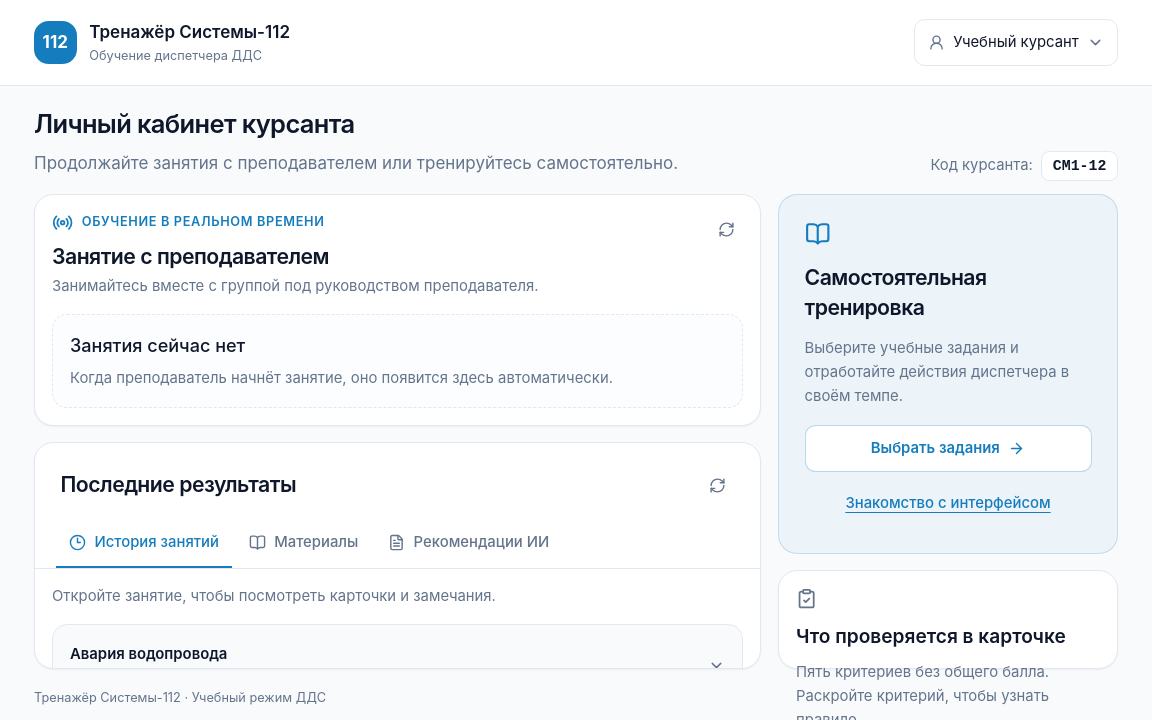
retains error counts even when detailed messages are missing
Click the heading "Авария водопровода" at (149, 654), box [70, 645, 227, 663]
(page scrolled)
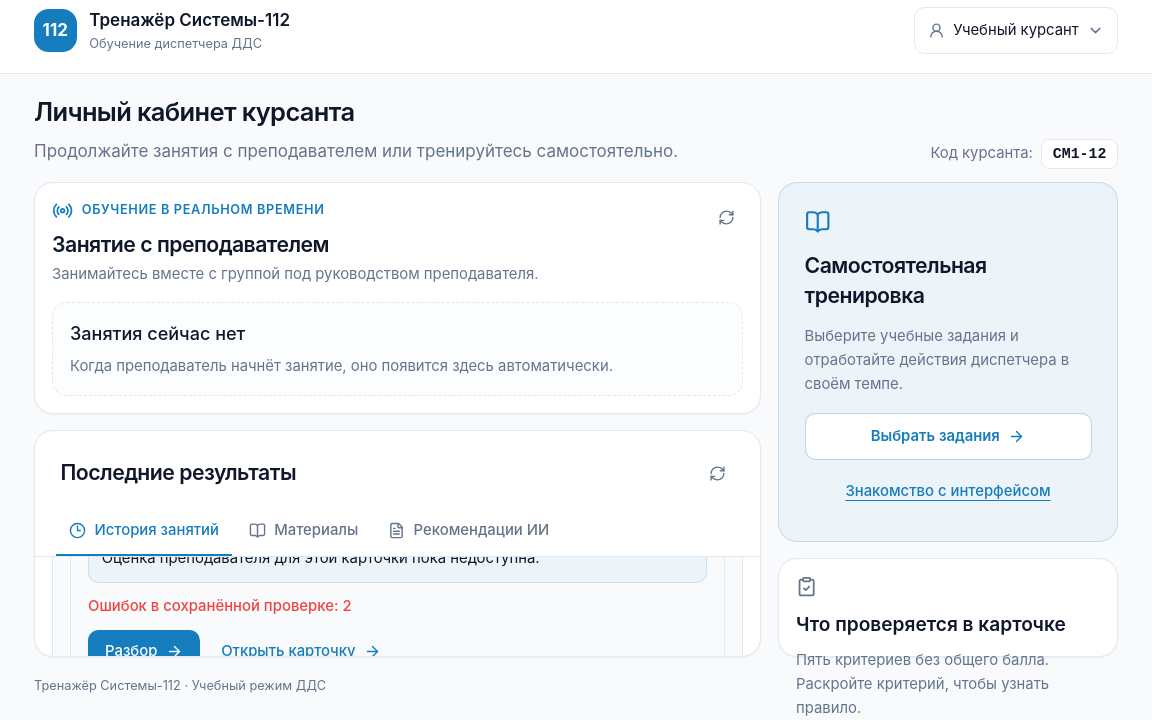
Expected: the text "Ошибок в сохранённой проверке: 2" is shown, [88, 597, 352, 615]
